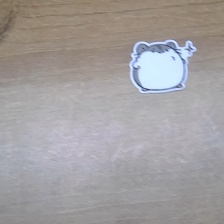mouse: (128, 39, 201, 97)
